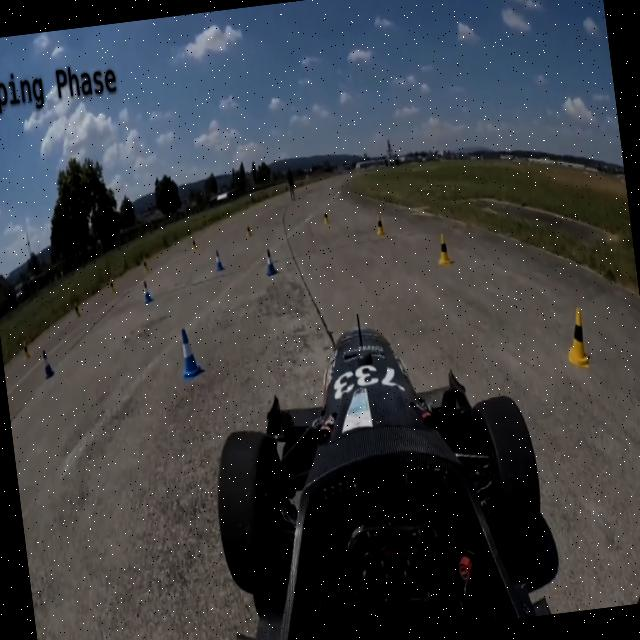blue_cone: (170, 318, 204, 382), (260, 244, 280, 278)
yellow_cone: (560, 299, 590, 370), (431, 227, 456, 270), (316, 200, 336, 233), (371, 206, 388, 237)
